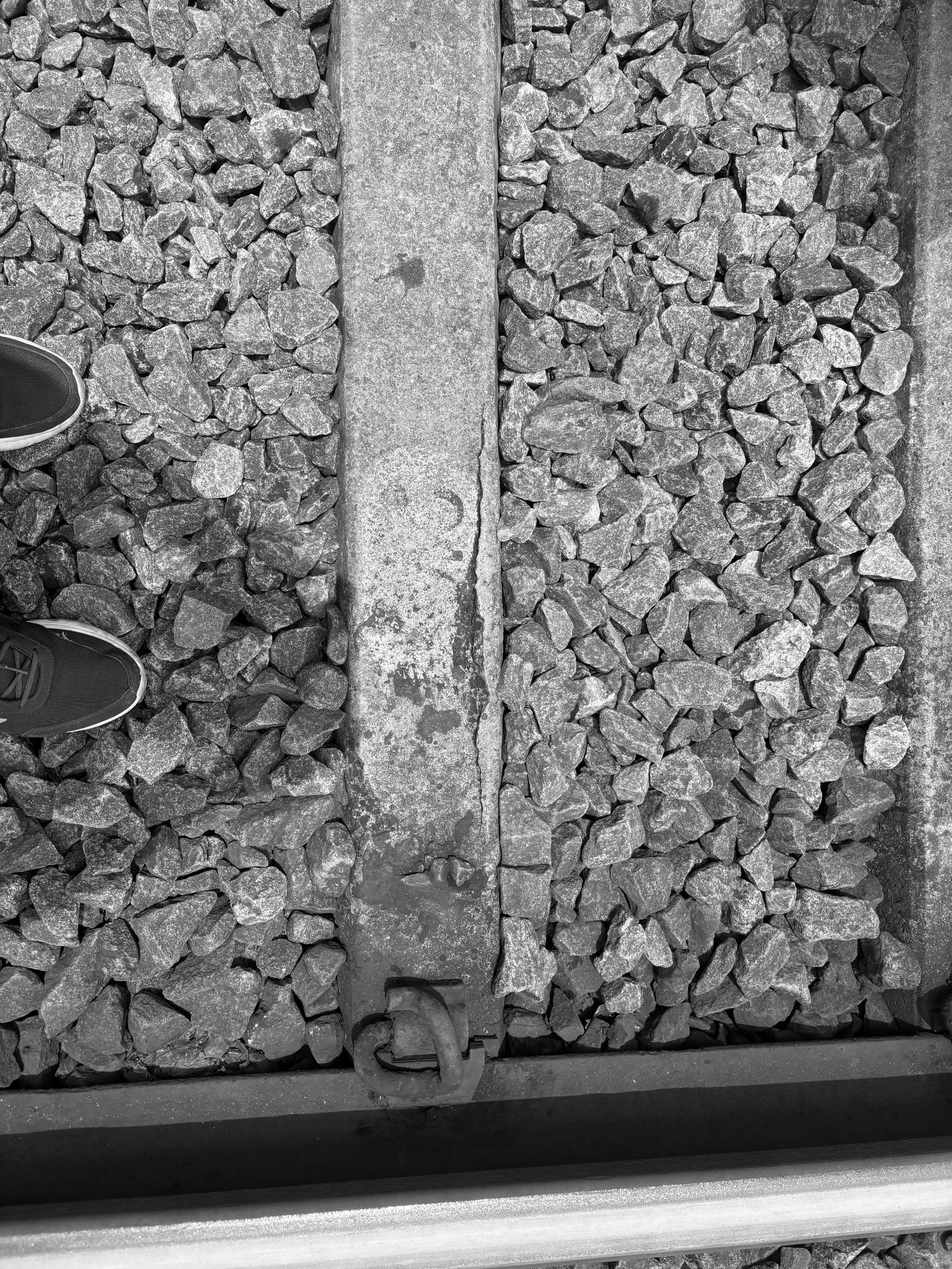cracks in midportion: (428, 389, 500, 872)
